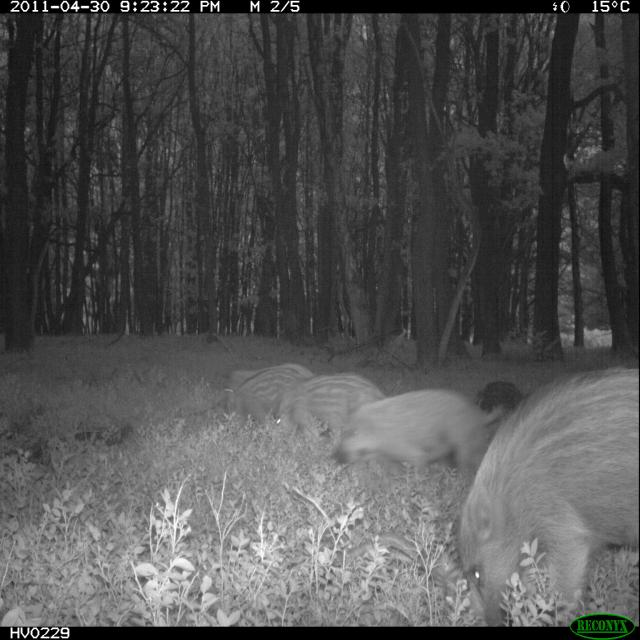boar: (442, 327, 640, 624), (314, 368, 514, 491), (247, 358, 411, 462), (203, 348, 327, 446)
